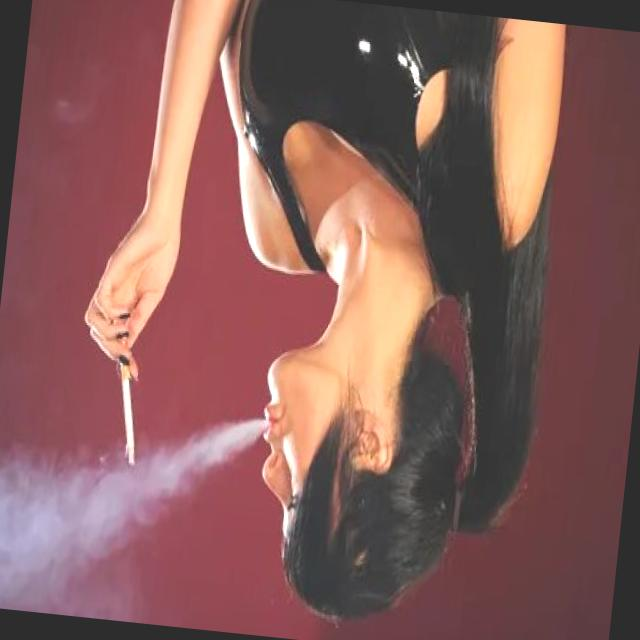cigarette: (105, 348, 152, 472)
